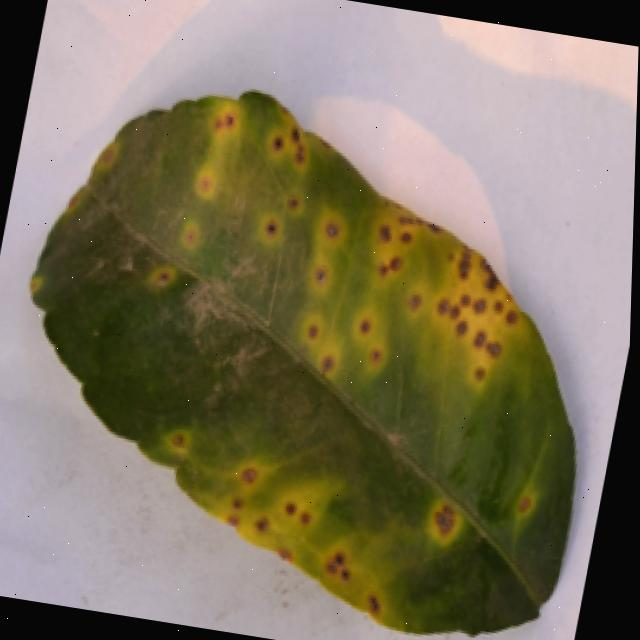canker: (32, 92, 574, 633), (134, 70, 521, 384), (195, 461, 392, 615), (152, 410, 208, 474), (424, 503, 464, 548), (498, 488, 542, 527)
